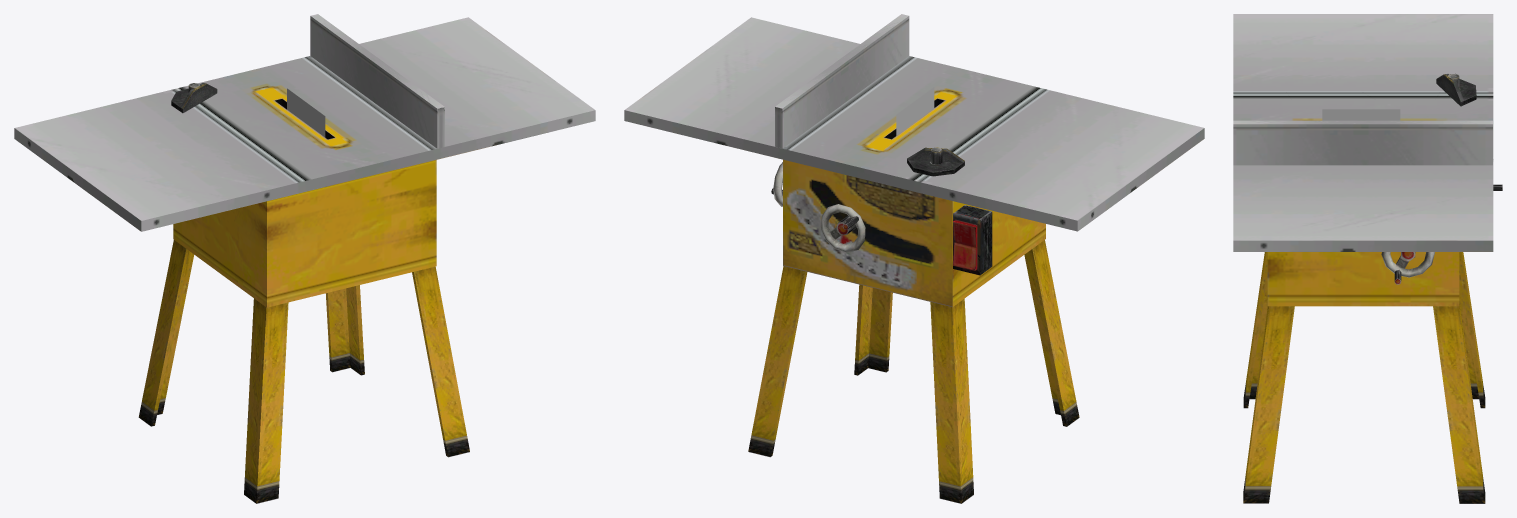
The model's file is table_saw.fbx.
The picture shows the model from 3 angles, left to right: view 1: azimuth 30°, elevation 25°; view 2: azimuth 150°, elevation 25°; view 3: azimuth 270°, elevation 25°; orthographic projection. The views are drawn at different scales.
Parts seen in each view (by area): view 1: mesh_0, mesh_1; view 2: mesh_0, mesh_1; view 3: mesh_0, mesh_1.
Part boxes in pixels (x1,y1,x2,y2): mesh_0: (14, 14, 595, 503); mesh_1: (287, 88, 325, 137); mesh_0: (624, 14, 1204, 503); mesh_1: (896, 87, 934, 135); mesh_0: (1233, 14, 1502, 503); mesh_1: (1322, 109, 1400, 120).
Bounding box in the file's own units: 140 × 105 × 70.18.
